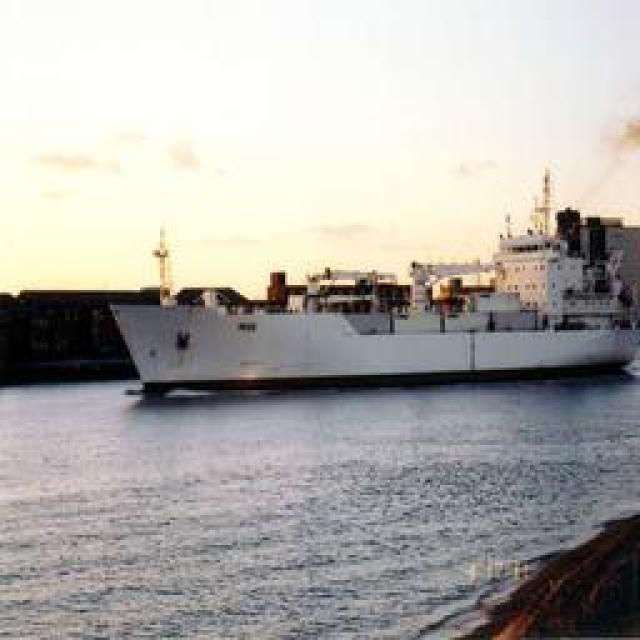CIV_Ship: (114, 208, 638, 396)
